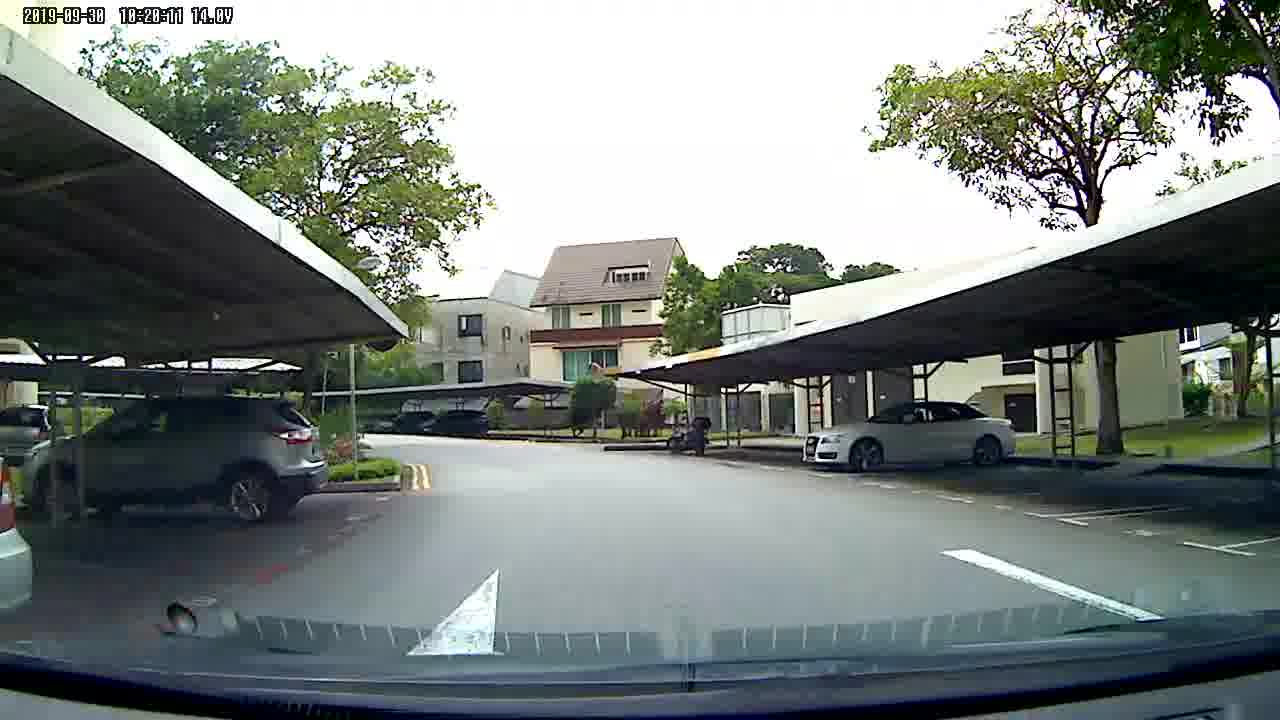car: (21, 373, 333, 536), (798, 398, 1022, 483), (1, 401, 68, 469)
